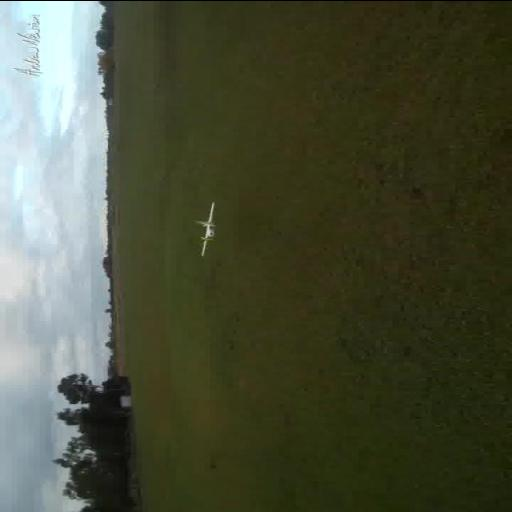uav: (173, 194, 244, 264)
